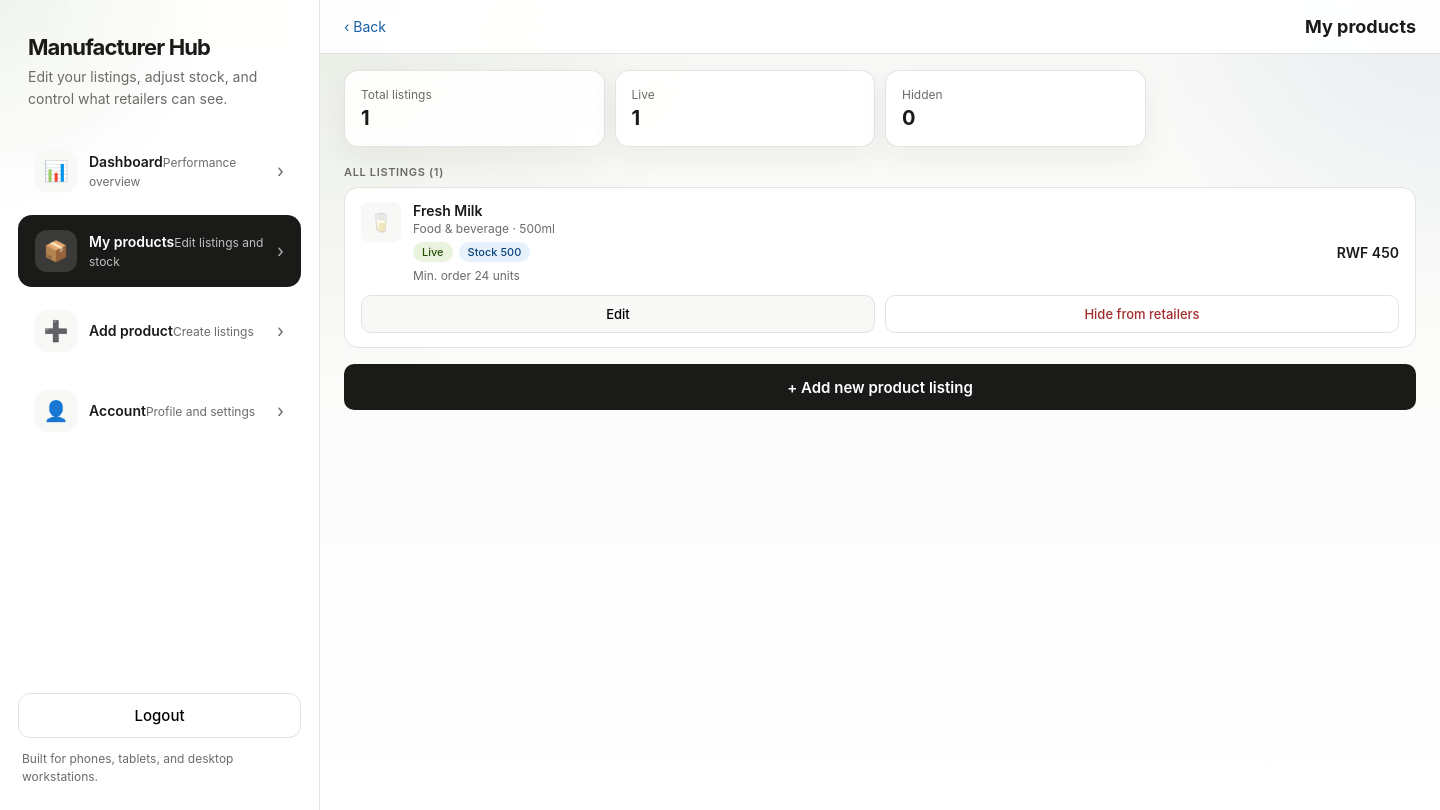
Test: editing a listing › prefills the editor from the product
The width and height of the screenshot is (1440, 810).
Expected: the text "Fresh Milk" is shown, [413,202,482,219]
What coordinates should you click on to do the following:
click the button "Edit"
I would click on:
 (618, 314)
Its box is [361,295,875,333].
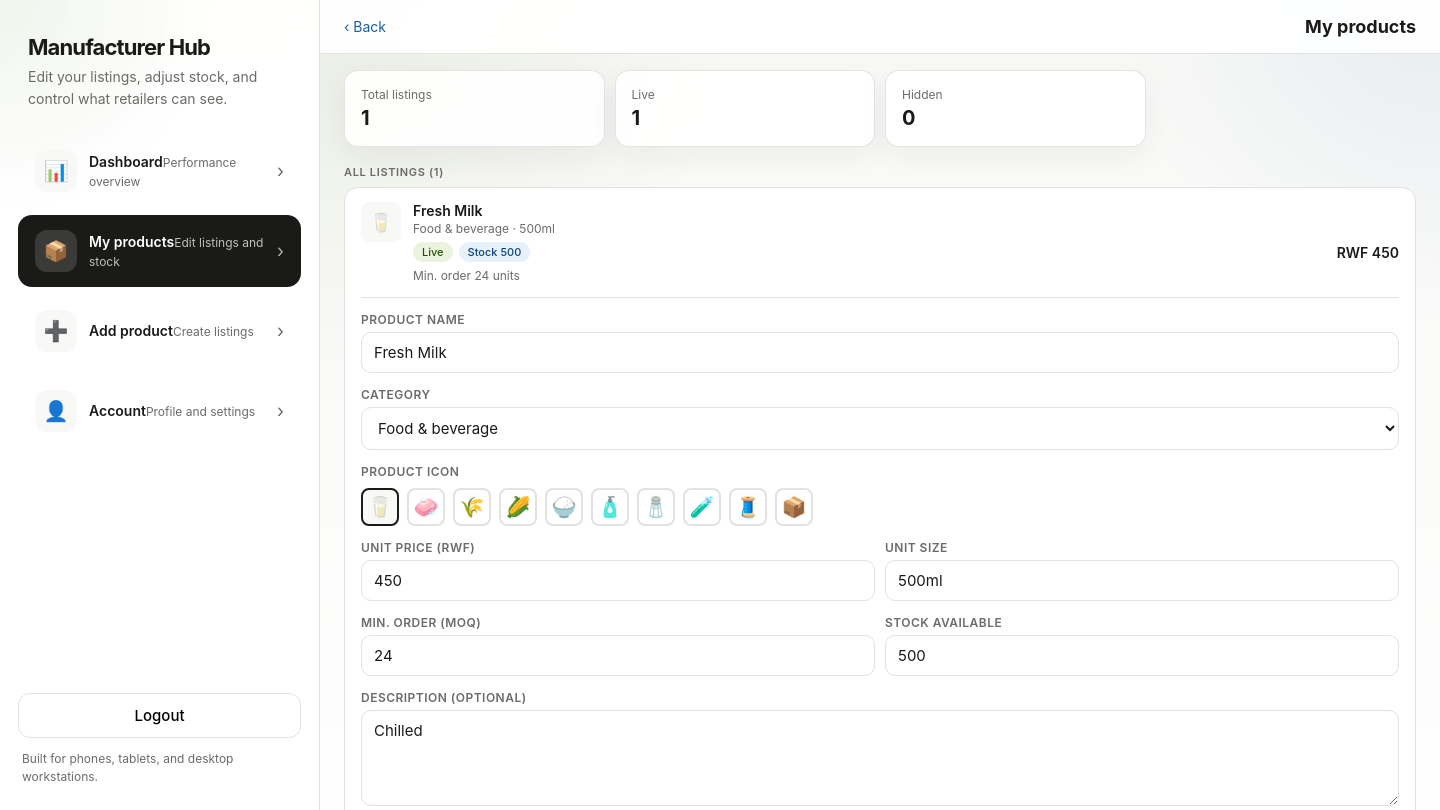
Result: the field showing "Fresh Milk" below "Product name" is shown at [361,332,1399,373]
Result: the number field showing "450" below "Unit price (RWF)" is shown at [361,560,875,601]
Result: the field showing "500ml" below "Unit size" is shown at [885,560,1399,601]
